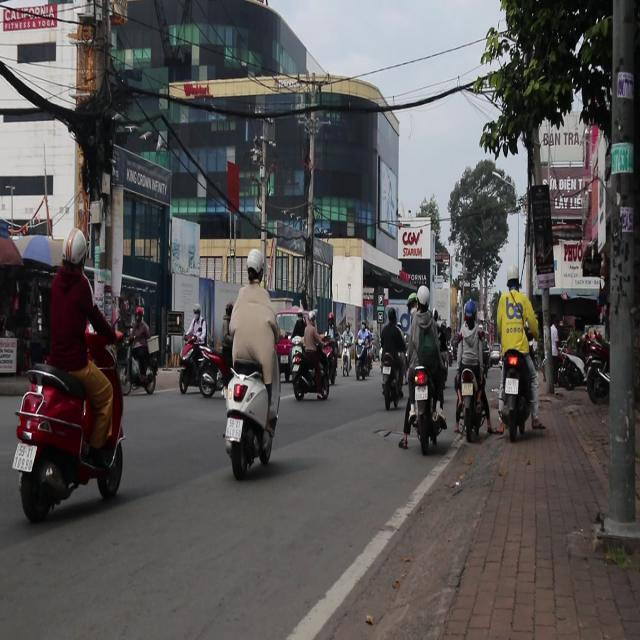motorbike: (11, 355, 127, 524), (221, 359, 279, 480), (500, 348, 536, 439), (178, 336, 228, 398), (289, 334, 334, 402), (414, 369, 443, 455), (121, 332, 159, 395), (455, 368, 484, 441), (553, 332, 587, 393), (584, 335, 611, 404), (382, 358, 400, 410)
